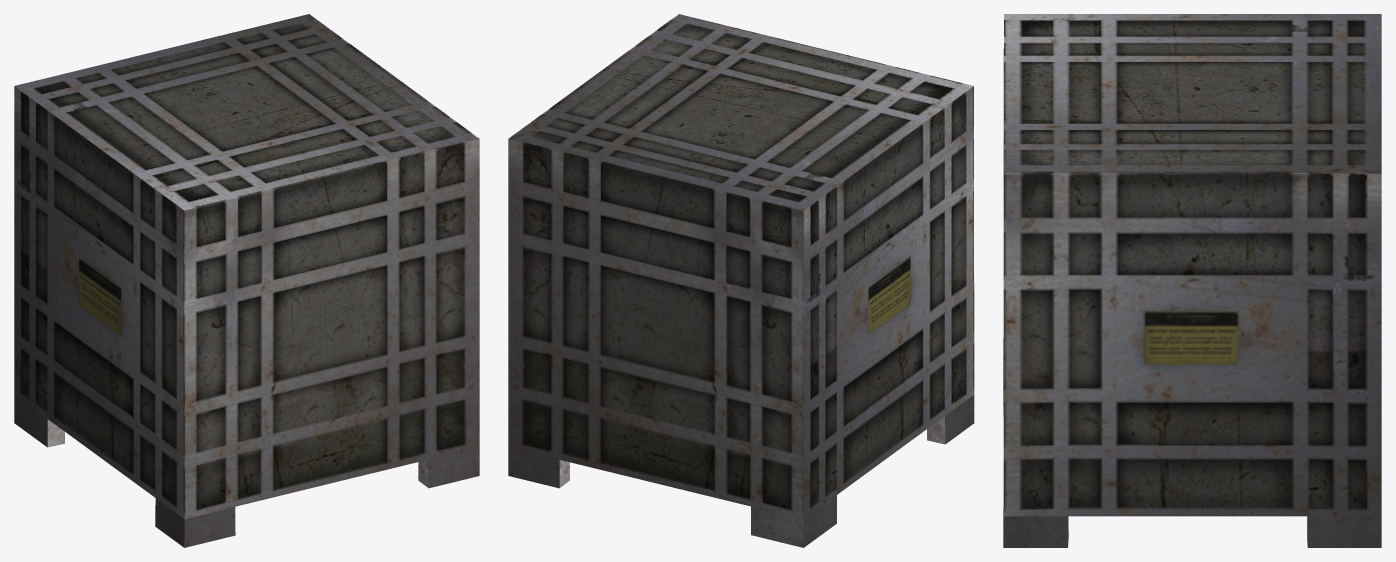
The model's file is modern_mine_crate.dae.
3 renders of one model, left to right at view 1: azimuth 30°, elevation 25°; view 2: azimuth 150°, elevation 25°; view 3: azimuth 270°, elevation 25°, orthographic. The views are drawn at different scales.
Parts seen in each view (by area): view 1: polySurface12; view 2: polySurface12; view 3: polySurface12.
Boxes of the visible parts, x1,y1,x2,y2 form: polySurface12: (14, 14, 479, 547); polySurface12: (508, 14, 974, 547); polySurface12: (1003, 14, 1381, 547).
Size of what is drawn, in the model's own units: 1.09 by 1.19 by 1.09.
